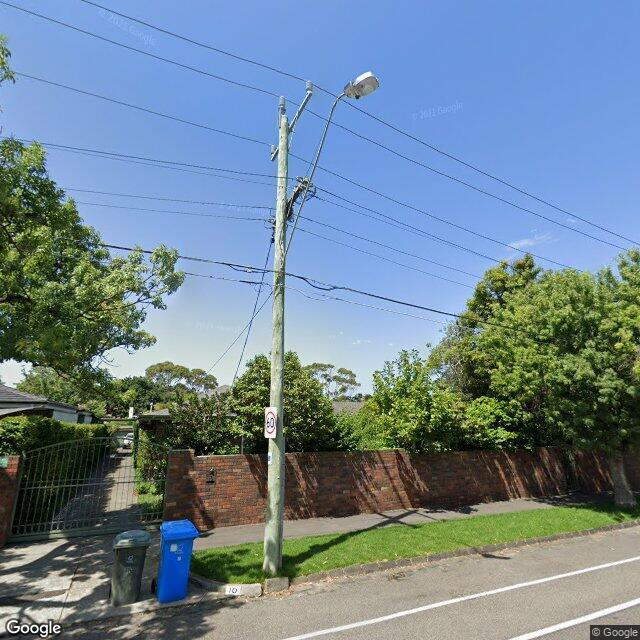HV-transmission: (270, 80, 314, 161)
crossarm: (270, 91, 314, 162), (264, 176, 317, 230)
streetlight: (281, 70, 380, 270)
timber-pole: (262, 115, 288, 575)
